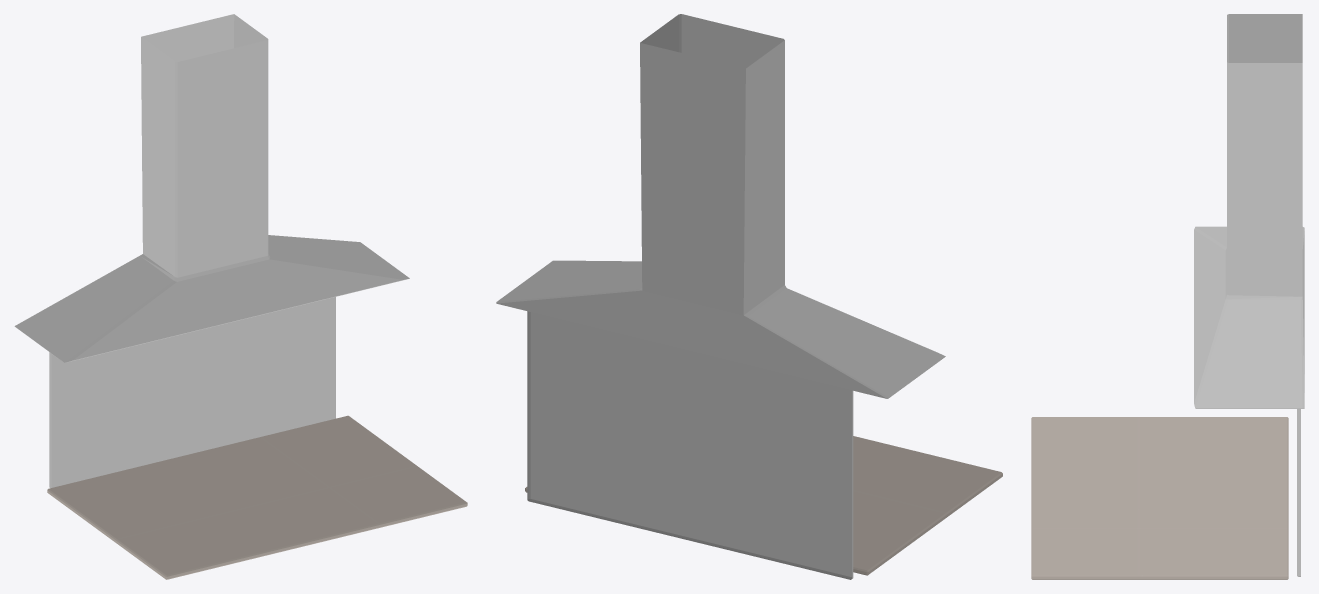
The model's file is StoveHood_becc4a30.obj.
3 views of the same model, side by side, from view 1: azimuth 30°, elevation 25°; view 2: azimuth 150°, elevation 25°; view 3: azimuth 270°, elevation 25° (orthographic). The views are drawn at different scales.
Parts seen in each view (by area): view 1: StoveHood_becc4a30; view 2: StoveHood_becc4a30; view 3: StoveHood_becc4a30.
Part boxes in pixels (x1=…): StoveHood_becc4a30: x1=14, y1=14, x2=467, y2=579; StoveHood_becc4a30: x1=496, y1=14, x2=1002, y2=579; StoveHood_becc4a30: x1=1031, y1=14, x2=1304, y2=579.
Bounding box in the file's own units: 1.3 × 1.54 × 0.827.
